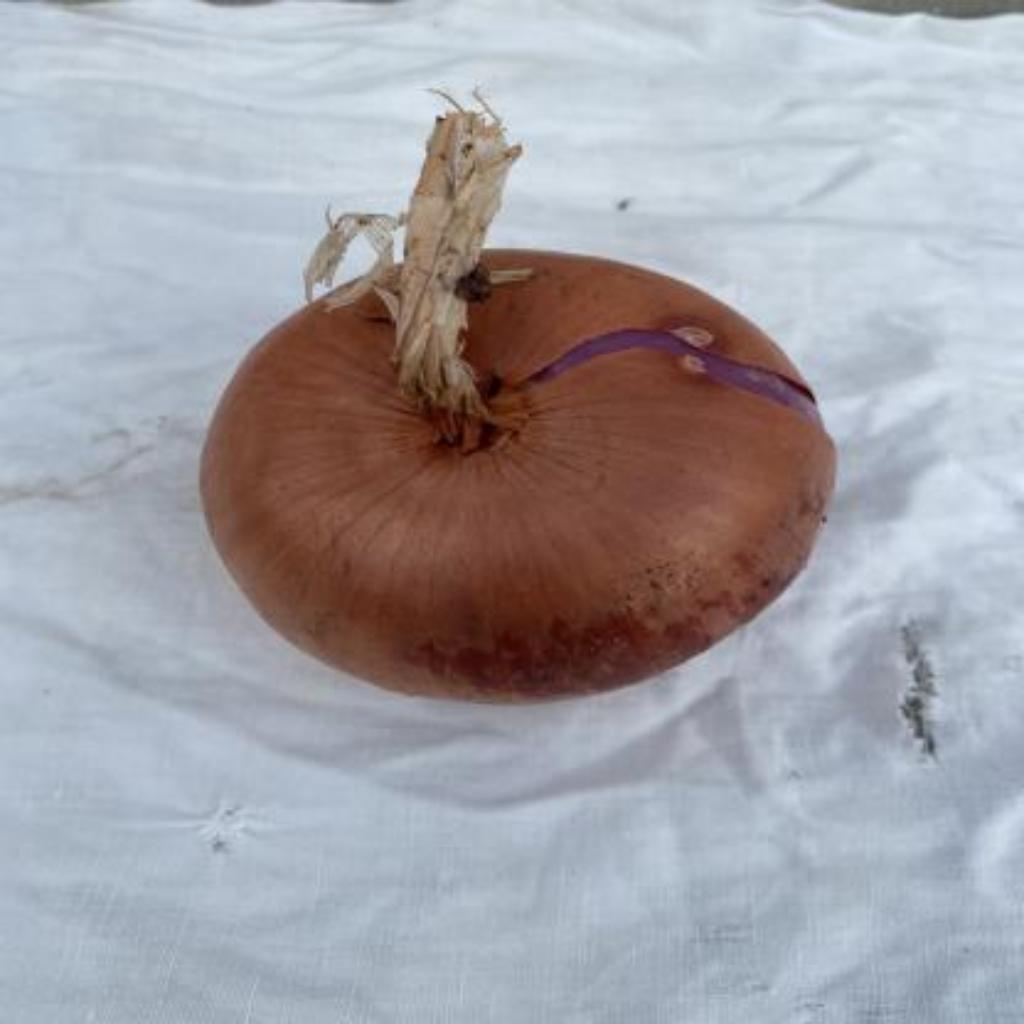Onion: (202, 94, 837, 700)
